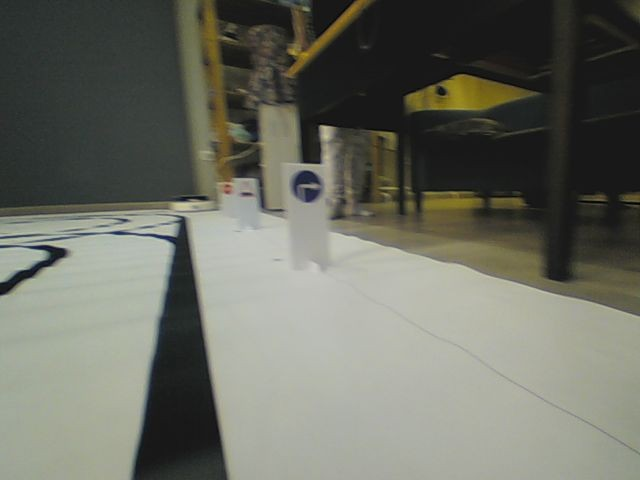Right: (291, 169, 323, 204)
